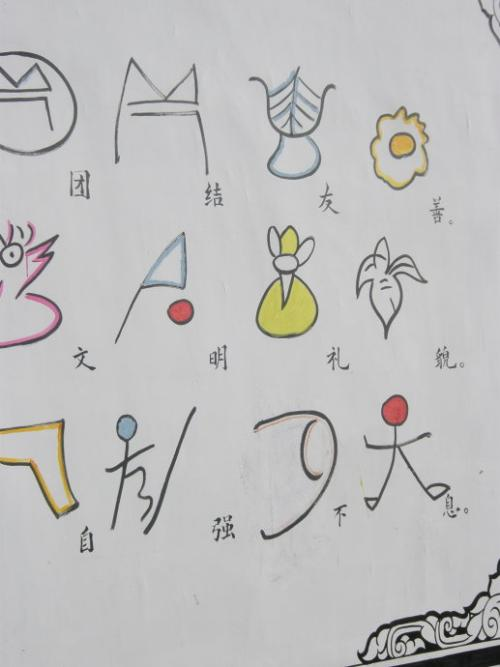chinese: (371, 106, 433, 193), (427, 343, 468, 374), (76, 517, 104, 556), (314, 182, 346, 216), (422, 194, 452, 229), (204, 339, 234, 371), (321, 341, 350, 374), (200, 181, 231, 210), (68, 340, 96, 372), (211, 511, 238, 542), (67, 170, 92, 201), (326, 498, 351, 527), (442, 492, 463, 521)
naxi: (110, 50, 214, 177), (245, 406, 338, 542), (351, 387, 452, 510), (105, 410, 202, 535), (244, 65, 337, 181), (2, 45, 81, 157), (120, 233, 196, 349), (353, 231, 428, 342), (1, 418, 83, 518), (3, 222, 64, 354), (259, 221, 322, 343), (371, 106, 433, 193)
